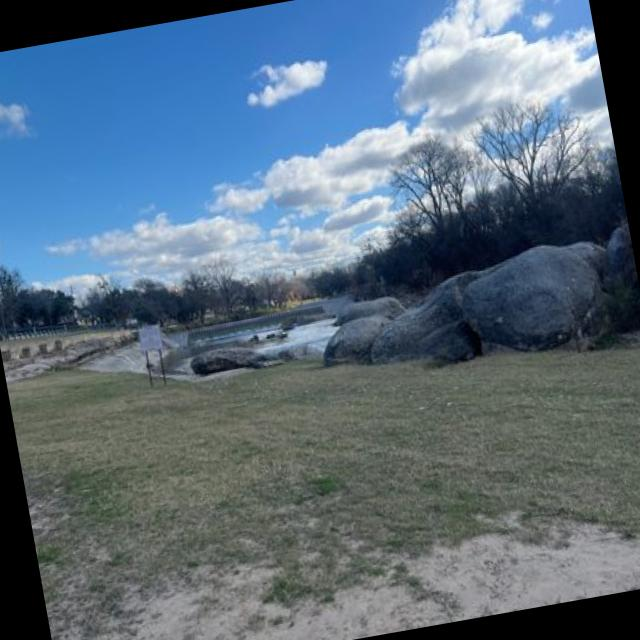grass: (7, 345, 640, 635)
stone: (462, 241, 606, 350), (371, 271, 478, 361), (603, 225, 640, 331), (325, 315, 390, 362)
white-sand: (84, 523, 640, 640)
